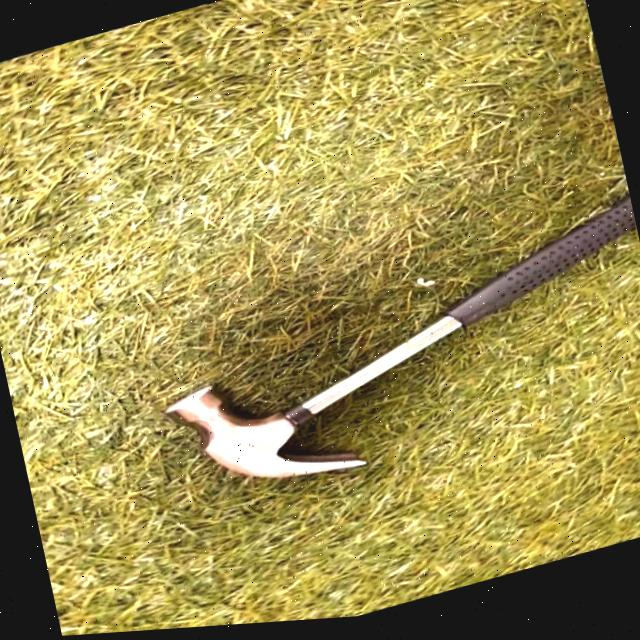hammer: (146, 200, 640, 519)
